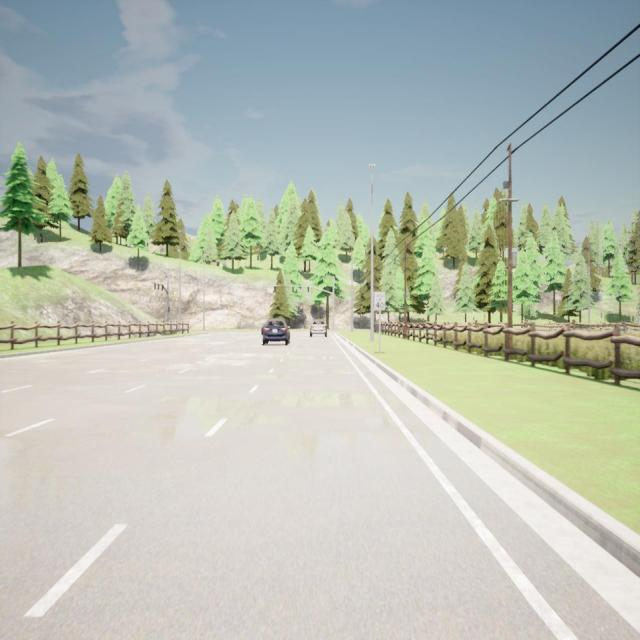Traffic_Signs: (374, 292, 386, 310)
Vehicle: (261, 318, 290, 345), (310, 320, 328, 337)
traffic_light: (154, 283, 156, 290), (274, 286, 276, 292), (292, 286, 294, 292), (168, 306, 170, 312), (308, 286, 309, 292), (158, 284, 159, 290), (162, 285, 163, 291)
